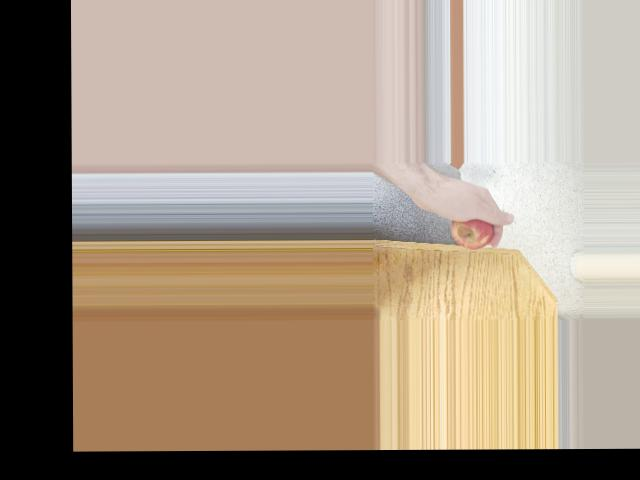apple: (445, 202, 495, 251)
